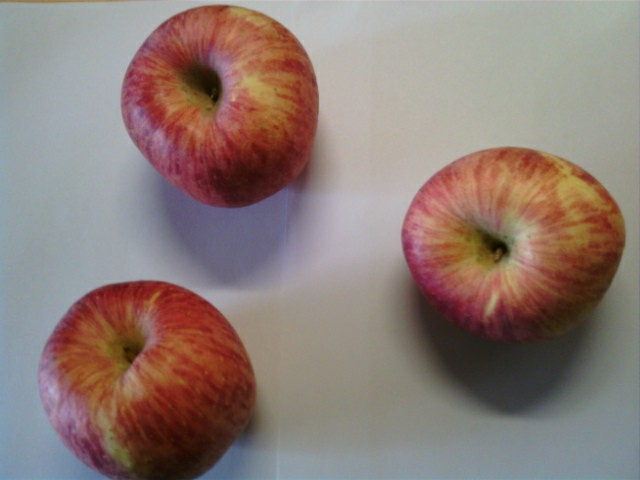normal_apple: (36, 280, 260, 480), (402, 145, 628, 343), (117, 3, 319, 208)
